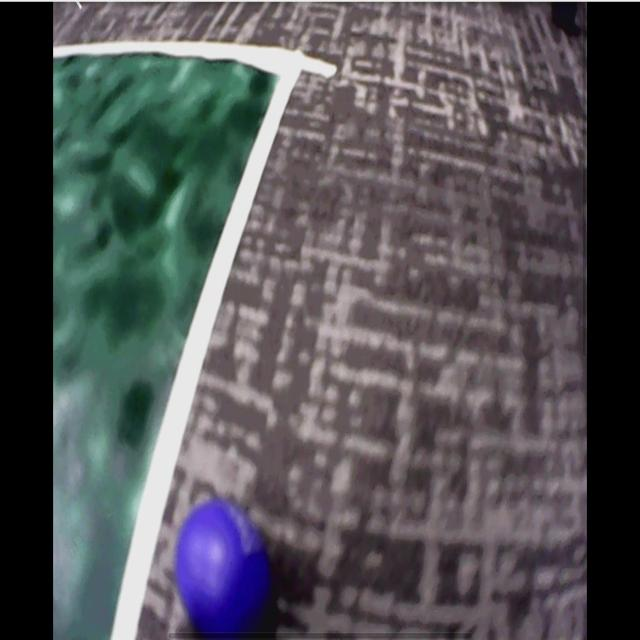ball: (178, 502, 271, 640)
